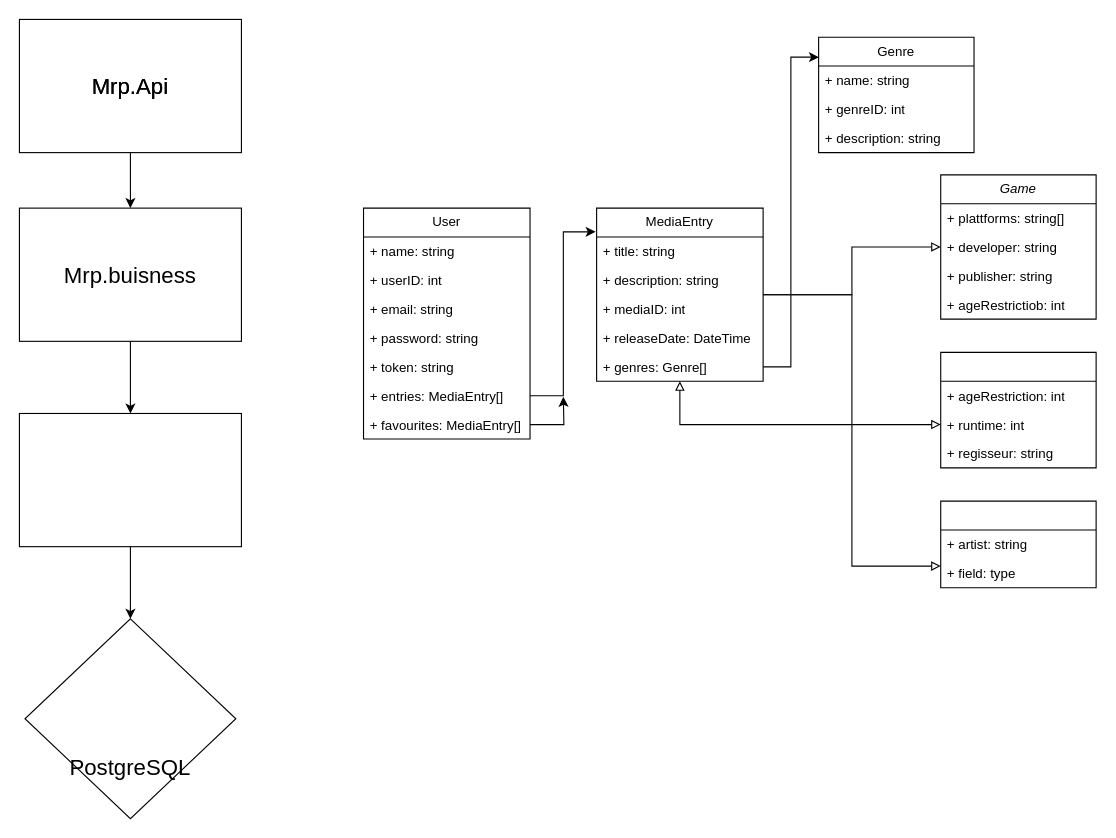
The diagram is 1116 pixels wide and 838 high, and some of its shapes have lost their labels. The box of each missing label's shape, as (x1, y1, x2, y2) in pixels:
Movie: (940, 351, 1096, 468)
Mrp.Data: (18, 412, 241, 547)
Music: (940, 500, 1096, 588)
